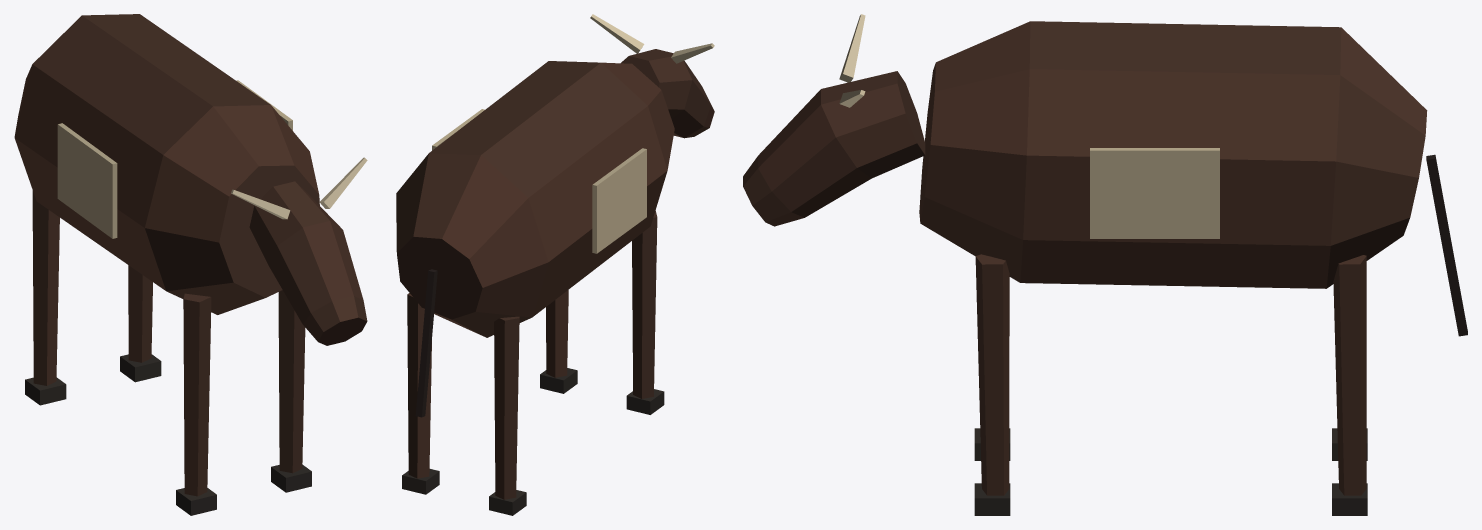
The model's file is walk_animal_cow.glb.
The picture shows the model from 3 angles, left to right: view 1: azimuth 30°, elevation 25°; view 2: azimuth 150°, elevation 25°; view 3: azimuth 270°, elevation 25°; orthographic projection. The views are drawn at different scales.
Parts seen in each view (by area): view 1: walk_animal_cow; view 2: walk_animal_cow; view 3: walk_animal_cow.
Boxes of the visible parts, x1,y1,x2,y2 form: walk_animal_cow: (14,14,367,515); walk_animal_cow: (396,14,714,515); walk_animal_cow: (743,14,1467,515).
Size of the model in its own units: 0.76 by 1.53 by 2.23.
Materials: 1 (1 with a texture image).
